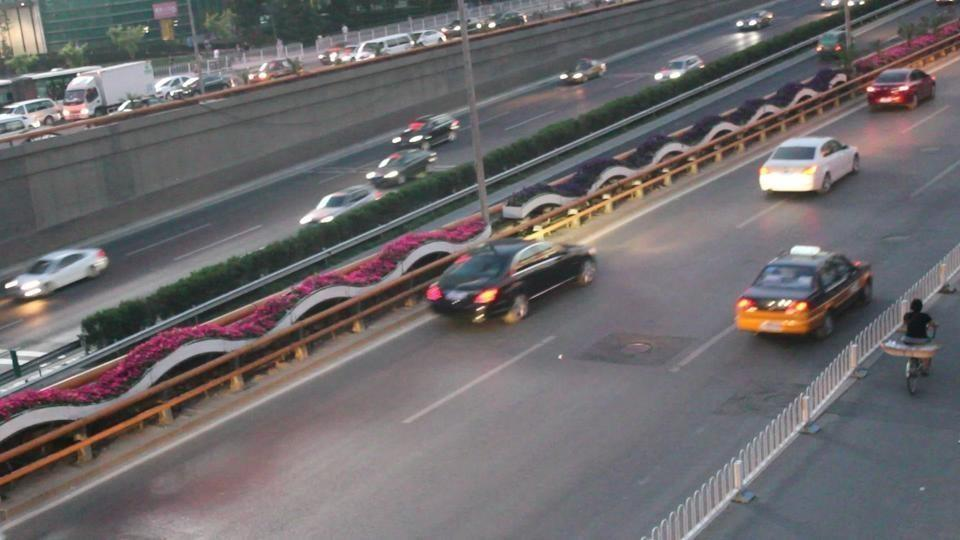car: (425, 239, 599, 325), (735, 246, 873, 340), (501, 156, 634, 225), (758, 135, 860, 195), (1, 246, 110, 300), (299, 185, 377, 227), (866, 67, 936, 113), (368, 148, 435, 191), (394, 112, 461, 148), (2, 98, 64, 128), (348, 35, 413, 63), (163, 73, 235, 97), (653, 54, 704, 84), (559, 57, 607, 84), (251, 59, 298, 83), (154, 75, 201, 98), (736, 10, 774, 31), (409, 28, 445, 48), (0, 113, 30, 135)
